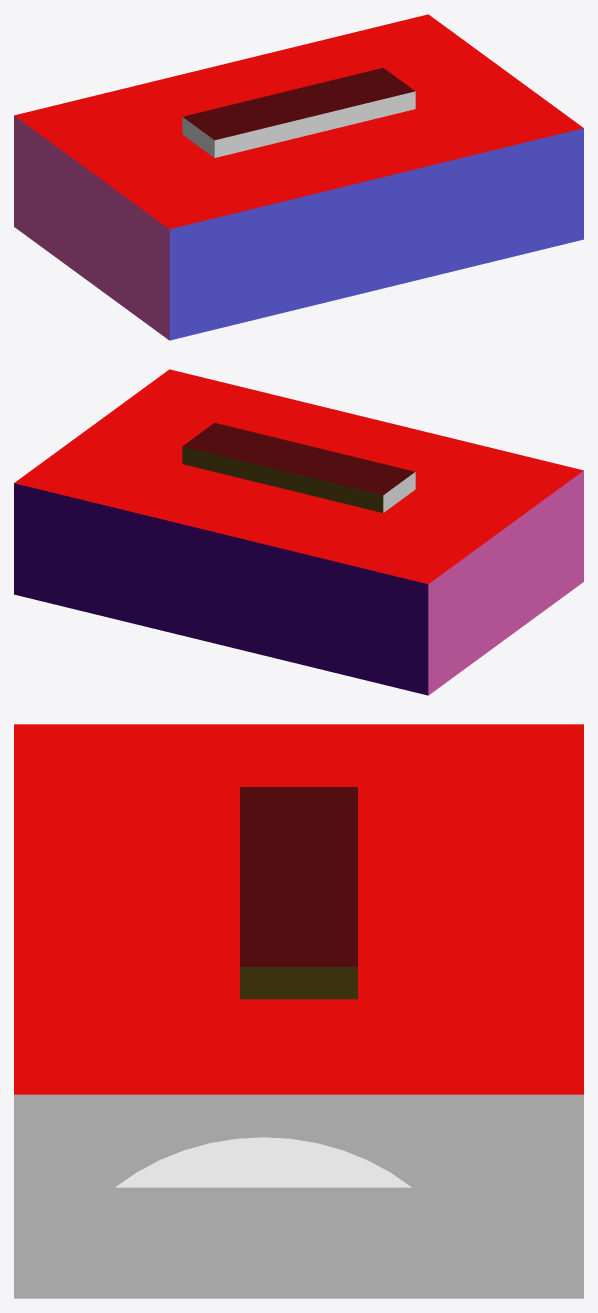
File: sketch.dae
3 renders of one model, top to bottom at view 1: azimuth 30°, elevation 25°; view 2: azimuth 150°, elevation 25°; view 3: azimuth 270°, elevation 25°, orthographic. The views are drawn at different scales.
Parts seen in each view (by area): view 1: SketchUp (×5); view 2: SketchUp (×6); view 3: SketchUp (×5).
Boxes of the visible parts, left/top/right/bottom form: SketchUp (×5): left=14, top=14, right=583, bottom=340; SketchUp (×6): left=14, top=369, right=583, bottom=695; SketchUp (×5): left=14, top=724, right=583, bottom=1298.
Bounding box in the file's own units: 186799 × 121426 × 55606.
